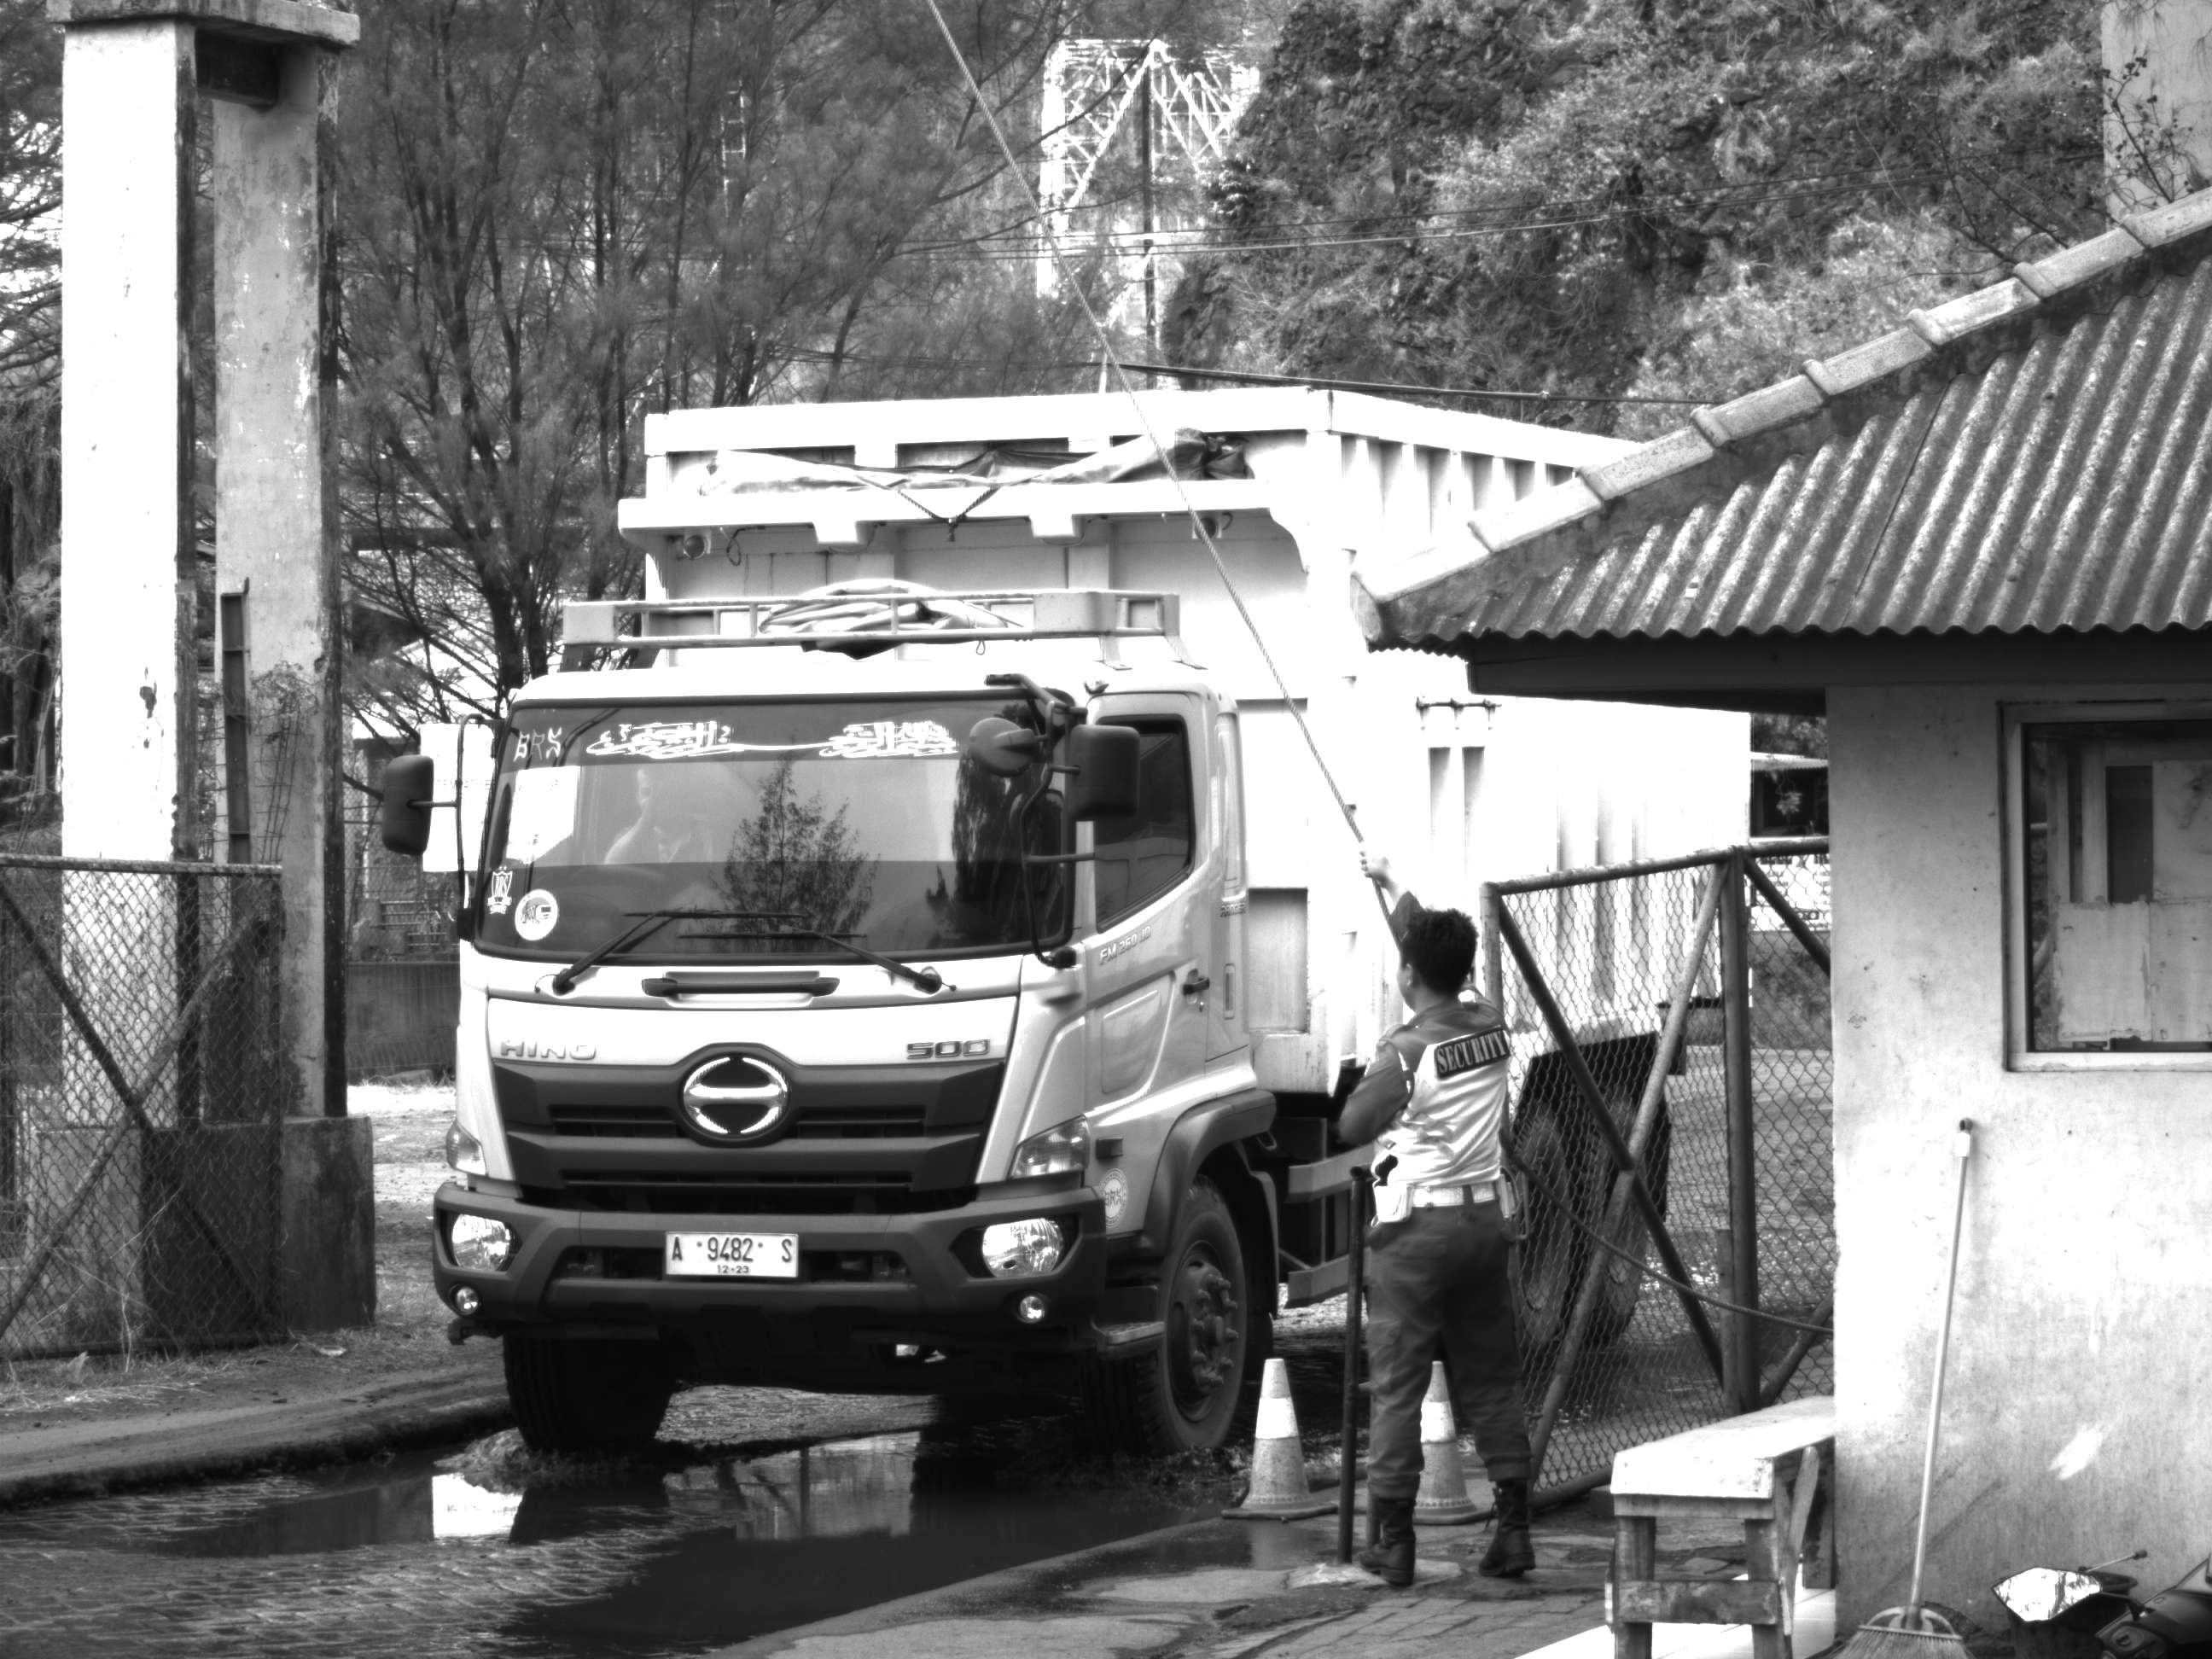day_truck_front: (428, 670, 1262, 1465)
plate: (661, 1231, 802, 1282)
